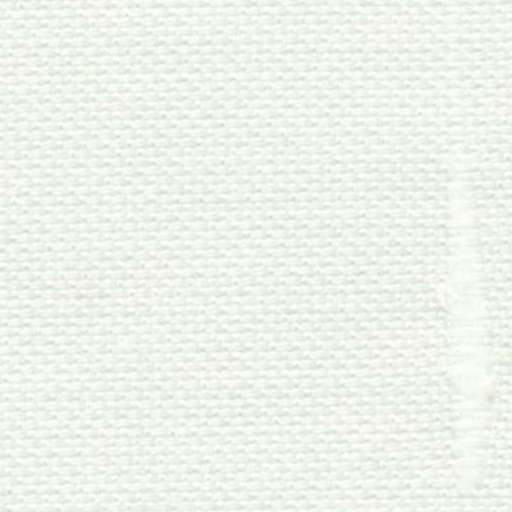DaiSha: (425, 72, 502, 494)
